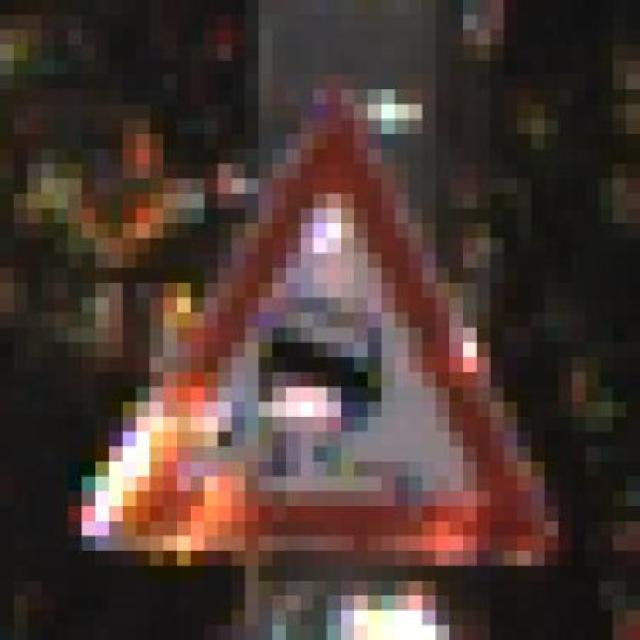Slippery Road Ahead: (68, 89, 572, 580)
